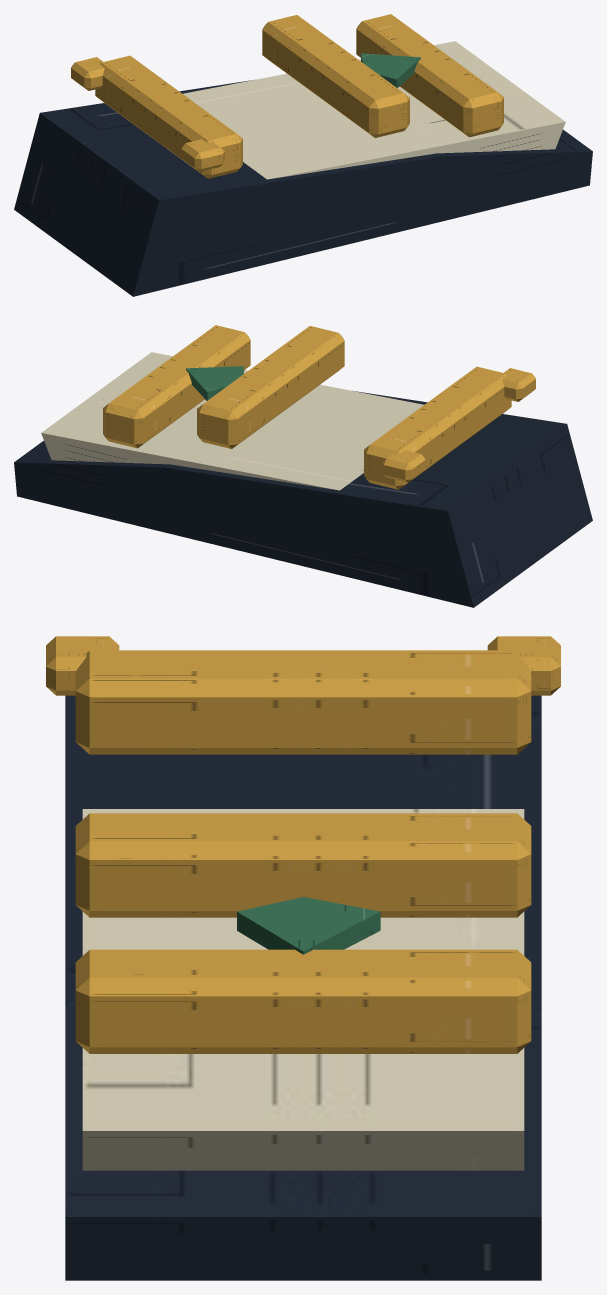
File: sandals.glb
3 renders of one model, top to bottom at view 1: azimuth 30°, elevation 25°; view 2: azimuth 150°, elevation 25°; view 3: azimuth 270°, elevation 25°, orthographic. The views are drawn at different scales.
Visible parts, largest first — view 1: foot_L, foot_R; view 2: foot_L, foot_R; view 3: foot_L, foot_R.
Boxes of the visible parts, box(x1,y1,x2,y2) form: foot_L: box(14, 14, 592, 296); foot_R: box(181, 139, 224, 171); foot_L: box(14, 325, 592, 607); foot_R: box(502, 368, 535, 401); foot_L: box(65, 636, 560, 1280); foot_R: box(46, 636, 119, 695).
Size of the model in its own units: 0.303 by 0.083 by 0.147.
4 materials, 4 textured.
